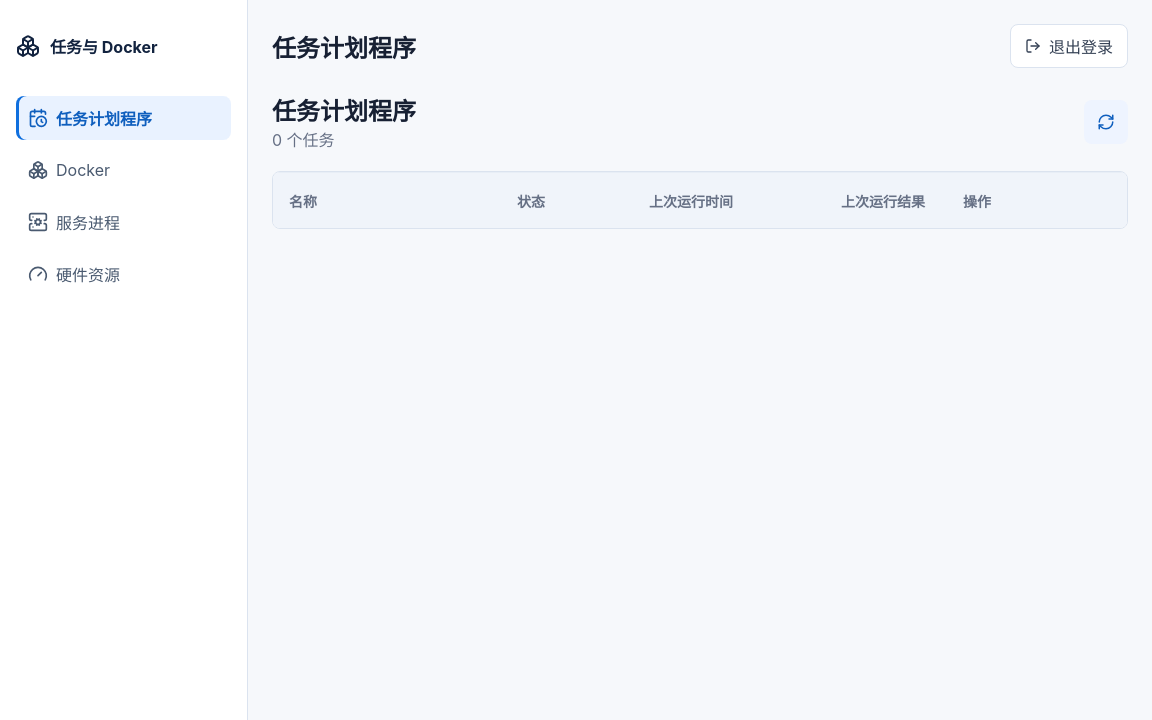
前端应用 › 按 Docker Compose 项目分组并支持折叠
This screenshot has width=1152, height=720.
Click the button "Docker" at coordinates (124, 170), box left=16, top=148, right=231, bottom=192
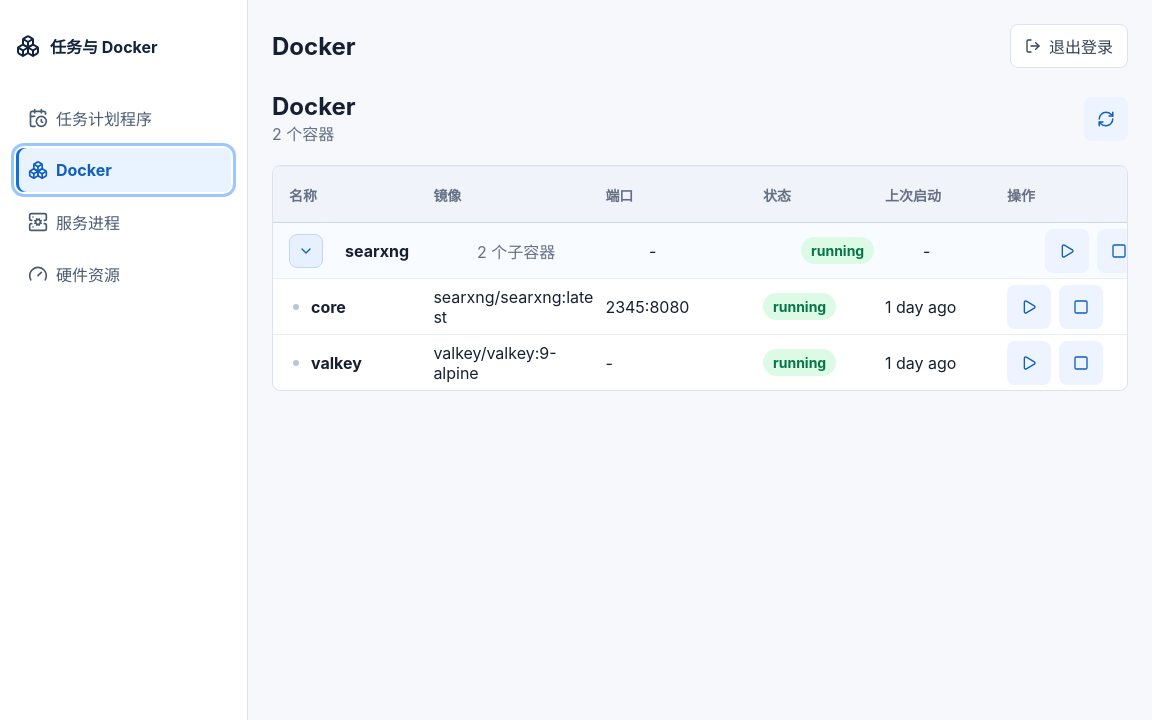
Result: the text "searxng" is shown at left=345, top=240, right=409, bottom=260
Result: the text "2 个容器" is shown at left=272, top=124, right=334, bottom=144
Result: the text "searxng/searxng:latest" is shown at left=433, top=286, right=593, bottom=326
Click the button named "折叠项目 searxng" at coordinates (306, 250), box left=289, top=234, right=323, bottom=268
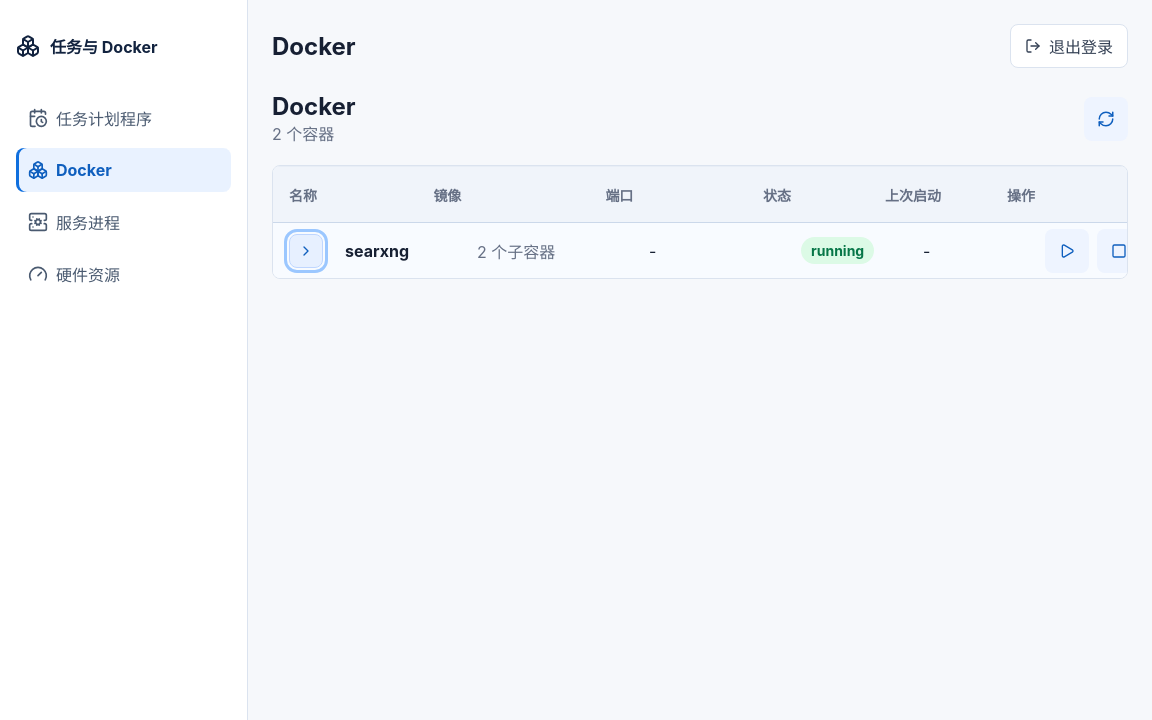
Result: the text "searxng/searxng:latest" is gone
Result: the button named "展开项目 searxng" is shown at left=289, top=234, right=323, bottom=268
